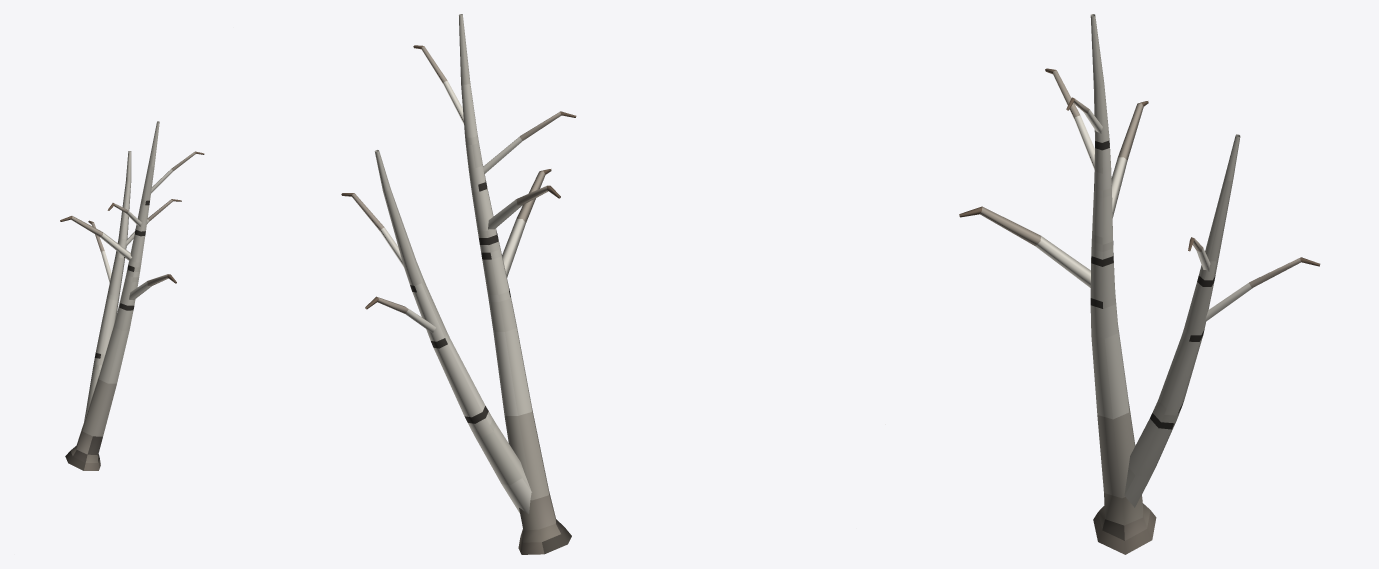
File: BirchLean2_bark.glb
3 views of the same model, side by side, from view 1: azimuth 30°, elevation 25°; view 2: azimuth 150°, elevation 25°; view 3: azimuth 270°, elevation 25° (orthographic). The views are drawn at different scales.
Parts seen in each view (by area): view 1: BirchLean2_bark; view 2: BirchLean2_bark; view 3: BirchLean2_bark.
Part boxes in pixels (bbox=[...]): BirchLean2_bark: bbox=[60, 121, 204, 470]; BirchLean2_bark: bbox=[341, 14, 576, 554]; BirchLean2_bark: bbox=[885, 14, 1320, 554].
Bounding box in the file's own units: 12.59 × 16.08 × 11.02.
